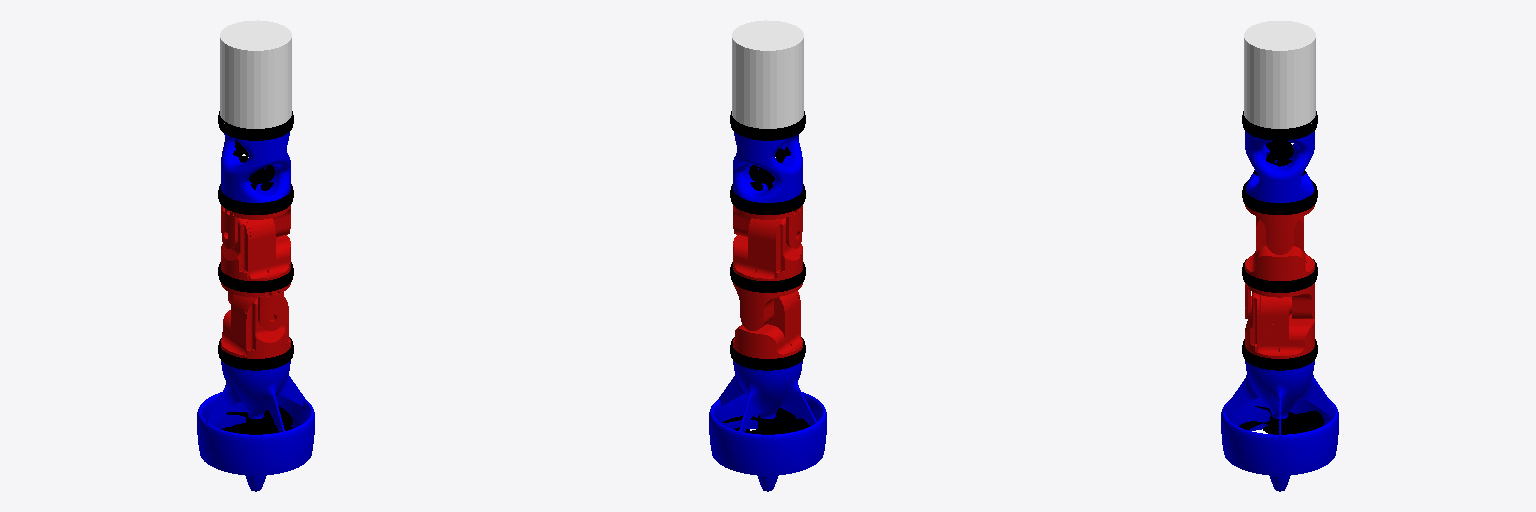
URDF robot description (snake):
<?xml version="1.0" encoding="utf-8"?>
<!-- =================================================================================== -->
<!-- |    This document was autogenerated by xacro from snake.xacro                    | -->
<!-- |    EDITING THIS FILE BY HAND IS NOT RECOMMENDED                                 | -->
<!-- =================================================================================== -->
<robot name="snake">
  <link name="head">
    <visual>
      <origin rpy="0 0 0" xyz="0 0 -0.033788"/>
      <geometry>
        <cylinder length="0.067576" radius="0.0263525"/>
      </geometry>
      <material name="white">
        <color rgba="1 1 1 1"/>
      </material>
    </visual>
    <collision>
      <origin rpy="0 0 0" xyz="0 0 -0.033788"/>
      <geometry>
        <cylinder length="0.067576" radius="0.0263525"/>
      </geometry>
    </collision>
    <inertial>
      <origin rpy="0 0 0" xyz="0 0 -0.033788"/>
      <mass value="0.67"/>
      <inertia ixx="0.000371284885415" ixy="0" ixz="0" iyy="0.000371284885415" iyz="0" izz="0.000232642175844"/>
    </inertial>
  </link>
  <joint name="head__OUTPUT_INTERFACE" type="fixed">
    <parent link="head"/>
    <child link="radial1__INPUT_INTERFACE"/>
    <origin rpy="0 0 1.57079632679" xyz="0 0 -0.067576"/>
  </joint>
  <link name="head__COLLAR">
    <visual>
      <geometry>
        <mesh filename="package://gripper/meshes/collar.stl"/>
      </geometry>
      <material name="black">
        <color rgba="0 0 0 1"/>
      </material>
    </visual>
  </link>
  <joint name="head__COLLAR_JOINT" type="fixed">
    <origin rpy="0 -1.57079632679 0" xyz="0 0 -0.067576"/>
    <parent link="head"/>
    <child link="head__COLLAR"/>
  </joint>
  <link name="radial1__INPUT_INTERFACE">
    <visual>
      <origin rpy="-1.57079632679 0 0" xyz="0 0 -0.03003515"/>
      <geometry>
        <mesh filename="package://gripper/meshes/radial_thruster_body.stl"/>
      </geometry>
      <material name="blue">
        <color rgba="0 0 1 1"/>
      </material>
    </visual>
    <collision>
      <origin rpy="0 0 0" xyz="0 0 -0.03003515"/>
      <geometry>
        <cylinder length="0.0600703" radius="0.0253925"/>
      </geometry>
    </collision>
    <inertial>
      <origin rpy="0 0 0" xyz="0 0 -0.03003515"/>
      <mass value="0.67"/>
      <inertia ixx="0.000309471777855" ixy="0" ixz="0" iyy="0.000309471777855" iyz="0" izz="0.000216000983844"/>
    </inertial>
  </link>
  <link name="radial1_propeller_h">
    <visual>
      <geometry>
        <mesh filename="package://gripper/meshes/radial_propeller_h.stl"/>
      </geometry>
      <material name="black">
        <color rgba="0 0 0 1"/>
      </material>
    </visual>
  </link>
  <joint name="radial1__PROPH_JOINT" type="continuous">
    <parent link="radial1__INPUT_INTERFACE"/>
    <child link="radial1_propeller_h"/>
    <origin rpy="0 1.57079632679 0" xyz="0 0 -0.0432259"/>
    <axis xyz="0 0 1"/>
    <dynamics damping=".1" friction="0.2"/>
    <limit effort="7.0" velocity="20"/>
  </joint>
  <transmission name="radial1__PROPH_JOINT_trans">
    <type>transmission_interface/SimpleTransmission</type>
    <joint name="radial1__PROPH_JOINT">
      <hardwareInterface>PositionJointInterface</hardwareInterface>
    </joint>
    <actuator name="radial1__PROPH_JOINT_motor">
      <hardwareInterface>PositionJointInterface</hardwareInterface>
      <mechanicalReduction>1</mechanicalReduction>
    </actuator>
  </transmission>
  <link name="radial1_propeller_v">
    <visual>
      <geometry>
        <mesh filename="package://gripper/meshes/radial_propeller_v.stl"/>
      </geometry>
      <material name="black">
        <color rgba="0 0 0 1"/>
      </material>
    </visual>
  </link>
  <joint name="radial1__PROPV_JOINT" type="continuous">
    <parent link="radial1__INPUT_INTERFACE"/>
    <child link="radial1_propeller_v"/>
    <origin rpy="1.57079632679 0 0" xyz="0 0 -0.022426"/>
    <axis xyz="0 0 1"/>
    <dynamics damping=".1" friction="0.2"/>
    <limit effort="7.0" velocity="20"/>
  </joint>
  <transmission name="radial1__PROPV_JOINT_trans">
    <type>transmission_interface/SimpleTransmission</type>
    <joint name="radial1__PROPV_JOINT">
      <hardwareInterface>PositionJointInterface</hardwareInterface>
    </joint>
    <actuator name="radial1__PROPV_JOINT_motor">
      <hardwareInterface>PositionJointInterface</hardwareInterface>
      <mechanicalReduction>1</mechanicalReduction>
    </actuator>
  </transmission>
  <link name="radial1__COLLAR">
    <visual>
      <geometry>
        <mesh filename="package://gripper/meshes/collar.stl"/>
      </geometry>
      <material name="black">
        <color rgba="0 0 0 1"/>
      </material>
    </visual>
  </link>
  <joint name="radial1__COLLAR_JOINT" type="fixed">
    <origin rpy="0 -1.57079632679 0" xyz="0 0 -0.0600703"/>
    <parent link="radial1__INPUT_INTERFACE"/>
    <child link="radial1__COLLAR"/>
  </joint>
  <joint name="radial1__OUTPUT_INTERFACE" type="fixed">
    <parent link="radial1__INPUT_INTERFACE"/>
    <child link="rotary1__INPUT_INTERFACE"/>
    <origin rpy="0 0 -1.57079632679" xyz="0 0 -0.0600703"/>
  </joint>
  <link name="rotary1__INPUT_INTERFACE">
    <visual>
      <origin rpy="0 -1.57079632679 0" xyz="0 0 -0.0187325"/>
      <geometry>
        <mesh filename="package://gripper/meshes/rotary_male.stl"/>
      </geometry>
      <material name="red">
        <color rgba=".82 0.06 0.06 1"/>
      </material>
    </visual>
    <collision>
      <origin rpy="0 0 0" xyz="0 0 -0.000379875"/>
      <geometry>
        <cylinder length="0.000379875" radius="0.0254"/>
      </geometry>
    </collision>
    <inertial>
      <origin rpy="0 0 0" xyz="0 0 -0.000379875"/>
      <mass value="0.335"/>
      <inertia ixx="5.40482640601e-05" ixy="0" ixz="0" iyy="5.40482640601e-05" iyz="0" izz="0.0001080643"/>
    </inertial>
  </link>
  <joint name="rotary1__JOINT" type="revolute">
    <parent link="rotary1__INPUT_INTERFACE"/>
    <child link="rotary1__OUTPUT_BODY"/>
    <origin rpy="0 0 0" xyz="0 0 -0.0273"/>
    <axis xyz="1 0 0"/>
    <dynamics damping=".1" friction="0.2"/>
    <limit effort="7.0" lower="-1.57" upper="1.57" velocity="2.208932"/>
  </joint>
  <transmission name="rotary1_trans">
    <type>transmission_interface/SimpleTransmission</type>
    <joint name="rotary1__JOINT">
      <hardwareInterface>PositionJointInterface</hardwareInterface>
    </joint>
    <actuator name="rotary1__JOINT_motor">
      <hardwareInterface>PositionJointInterface</hardwareInterface>
      <mechanicalReduction>300</mechanicalReduction>
    </actuator>
  </transmission>
  <link name="rotary1__OUTPUT_BODY">
    <visual>
      <origin rpy="0 0 0" xyz="0 0 -0.0087453"/>
      <geometry>
        <mesh filename="package://gripper/meshes/rotary_female.stl"/>
      </geometry>
      <material name="red">
        <color rgba=".82 0.06 0.06 1"/>
      </material>
    </visual>
    <collision>
      <origin rpy="0 0 0" xyz="0 0 -0.0087453"/>
      <geometry>
        <cylinder length="0.053107" radius="0.0257805"/>
      </geometry>
    </collision>
    <inertial>
      <origin rpy="0 0 0" xyz="0 0 -0.0087453"/>
      <mass value="0.335"/>
      <inertia ixx="0.000134397979714" ixy="0" ixz="0" iyy="0.000134397979714" iyz="0" izz="0.000111326225192"/>
    </inertial>
  </link>
  <joint name="rotary1__OUTPUT_INTERFACE" type="fixed">
    <parent link="rotary1__OUTPUT_BODY"/>
    <child link="rotary2__INPUT_INTERFACE"/>
    <origin rpy="0 0 1.57079632679" xyz="0 0 -0.0352988"/>
  </joint>
  <link name="rotary1__COLLAR">
    <visual>
      <origin rpy="0 1.57079632679 0" xyz="0 0 -0.0352988"/>
      <geometry>
        <mesh filename="package://gripper/meshes/collar.stl"/>
      </geometry>
      <material name="black">
        <color rgba="0 0 0 1"/>
      </material>
    </visual>
  </link>
  <joint name="rotary1__COLLAR_JOINT" type="fixed">
    <parent link="rotary1__OUTPUT_BODY"/>
    <child link="rotary1__COLLAR"/>
  </joint>
  <link name="rotary2__INPUT_INTERFACE">
    <visual>
      <origin rpy="0 -1.57079632679 0" xyz="0 0 -0.0187325"/>
      <geometry>
        <mesh filename="package://gripper/meshes/rotary_male.stl"/>
      </geometry>
      <material name="red">
        <color rgba=".82 0.06 0.06 1"/>
      </material>
    </visual>
    <collision>
      <origin rpy="0 0 0" xyz="0 0 -0.000379875"/>
      <geometry>
        <cylinder length="0.000379875" radius="0.0254"/>
      </geometry>
    </collision>
    <inertial>
      <origin rpy="0 0 0" xyz="0 0 -0.000379875"/>
      <mass value="0.335"/>
      <inertia ixx="5.40482640601e-05" ixy="0" ixz="0" iyy="5.40482640601e-05" iyz="0" izz="0.0001080643"/>
    </inertial>
  </link>
  <joint name="rotary2__JOINT" type="revolute">
    <parent link="rotary2__INPUT_INTERFACE"/>
    <child link="rotary2__OUTPUT_BODY"/>
    <origin rpy="0 0 0" xyz="0 0 -0.0273"/>
    <axis xyz="1 0 0"/>
    <dynamics damping=".1" friction="0.2"/>
    <limit effort="7.0" lower="-1.57" upper="1.57" velocity="2.208932"/>
  </joint>
  <transmission name="rotary2_trans">
    <type>transmission_interface/SimpleTransmission</type>
    <joint name="rotary2__JOINT">
      <hardwareInterface>PositionJointInterface</hardwareInterface>
    </joint>
    <actuator name="rotary2__JOINT_motor">
      <hardwareInterface>PositionJointInterface</hardwareInterface>
      <mechanicalReduction>300</mechanicalReduction>
    </actuator>
  </transmission>
  <link name="rotary2__OUTPUT_BODY">
    <visual>
      <origin rpy="0 0 0" xyz="0 0 -0.0087453"/>
      <geometry>
        <mesh filename="package://gripper/meshes/rotary_female.stl"/>
      </geometry>
      <material name="red">
        <color rgba=".82 0.06 0.06 1"/>
      </material>
    </visual>
    <collision>
      <origin rpy="0 0 0" xyz="0 0 -0.0087453"/>
      <geometry>
        <cylinder length="0.053107" radius="0.0257805"/>
      </geometry>
    </collision>
    <inertial>
      <origin rpy="0 0 0" xyz="0 0 -0.0087453"/>
      <mass value="0.335"/>
      <inertia ixx="0.000134397979714" ixy="0" ixz="0" iyy="0.000134397979714" iyz="0" izz="0.000111326225192"/>
    </inertial>
  </link>
  <joint name="rotary2__OUTPUT_INTERFACE" type="fixed">
    <parent link="rotary2__OUTPUT_BODY"/>
    <child link="axial__INPUT_INTERFACE"/>
    <origin rpy="0 0 0" xyz="0 0 -0.0352988"/>
  </joint>
  <link name="rotary2__COLLAR">
    <visual>
      <origin rpy="0 1.57079632679 0" xyz="0 0 -0.0352988"/>
      <geometry>
        <mesh filename="package://gripper/meshes/collar.stl"/>
      </geometry>
      <material name="black">
        <color rgba="0 0 0 1"/>
      </material>
    </visual>
  </link>
  <joint name="rotary2__COLLAR_JOINT" type="fixed">
    <parent link="rotary2__OUTPUT_BODY"/>
    <child link="rotary2__COLLAR"/>
  </joint>
  <link name="axial__INPUT_INTERFACE">
    <visual>
      <origin rpy="-1.57079632679 0 0" xyz="0 0 -0.05775515"/>
      <geometry>
        <mesh filename="package://gripper/meshes/axial_thruster_body.stl"/>
      </geometry>
      <material name="blue">
        <color rgba="0 0 1 1"/>
      </material>
    </visual>
    <collision>
      <origin rpy="0 0 0" xyz="0 0 -0.05775515"/>
      <geometry>
        <cylinder length="0.1155103" radius="0.0432145"/>
      </geometry>
    </collision>
    <inertial>
      <origin rpy="0 0 0" xyz="0 0 -0.05775515"/>
      <mass value="0.67"/>
      <inertia ixx="0.00105776855439" ixy="0" ixz="0" iyy="0.00105776855439" iyz="0" izz="0.000625610158434"/>
    </inertial>
  </link>
  <link name="axial_propeller">
    <visual>
      <origin rpy="0 1.57079632679 0" xyz="0 0 0"/>
      <geometry>
        <mesh filename="package://gripper/meshes/axial_propeller.stl"/>
      </geometry>
      <material name="black">
        <color rgba="0 0 0 1"/>
      </material>
    </visual>
  </link>
  <joint name="axial__PROP_JOINT" type="continuous">
    <parent link="axial__INPUT_INTERFACE"/>
    <child link="axial_propeller"/>
    <origin rpy="0 0 0" xyz="0 0 -0.068235"/>
    <axis xyz="0 0 1"/>
    <dynamics damping=".1" friction="0.2"/>
    <limit effort="7.0" velocity="20"/>
  </joint>
  <transmission name="axial__PROP_JOINT_trans">
    <type>transmission_interface/SimpleTransmission</type>
    <joint name="axial__PROP_JOINT">
      <hardwareInterface>PositionJointInterface</hardwareInterface>
    </joint>
    <actuator name="axial__PROP_JOINT_motor">
      <hardwareInterface>PositionJointInterface</hardwareInterface>
      <mechanicalReduction>1</mechanicalReduction>
    </actuator>
  </transmission>
</robot>

--- Render facts (derived) ---
3 views of the same robot in one strip: view 1: azimuth 30°, elevation 25°; view 2: azimuth 150°, elevation 25°; view 3: azimuth 270°, elevation 25° (orthographic).
Model snake with 14 links and 13 joints (2 revolute, 3 continuous, 8 fixed), rooted at head, posed all joints at 0.
Links seen in each view (by area): view 1: axial__INPUT_INTERFACE, head, radial1__INPUT_INTERFACE, rotary1__OUTPUT_BODY, rotary2__OUTPUT_BODY, rotary1__INPUT_INTERFACE, rotary2__INPUT_INTERFACE, radial1__COLLAR, axial_propeller, head__COLLAR, rotary1__COLLAR, rotary2__COLLAR; view 2: axial__INPUT_INTERFACE, head, radial1__INPUT_INTERFACE, rotary1__OUTPUT_BODY, rotary2__OUTPUT_BODY, rotary2__INPUT_INTERFACE, rotary1__INPUT_INTERFACE, axial_propeller, radial1__COLLAR, head__COLLAR, rotary1__COLLAR, rotary2__COLLAR; view 3: axial__INPUT_INTERFACE, head, rotary2__OUTPUT_BODY, radial1__INPUT_INTERFACE, rotary1__OUTPUT_BODY, rotary1__INPUT_INTERFACE, axial_propeller, rotary2__INPUT_INTERFACE, radial1__COLLAR, rotary1__COLLAR, head__COLLAR, rotary2__COLLAR (+1 smaller).
Link boxes in pixels (left/top/right/bottom): axial__INPUT_INTERFACE: left=197, top=361, right=314, bottom=491; head: left=220, top=20, right=291, bottom=128; radial1__INPUT_INTERFACE: left=221, top=132, right=290, bottom=202; rotary1__OUTPUT_BODY: left=221, top=218, right=290, bottom=280; rotary2__OUTPUT_BODY: left=221, top=294, right=290, bottom=358; rotary1__INPUT_INTERFACE: left=221, top=205, right=290, bottom=248; rotary2__INPUT_INTERFACE: left=221, top=283, right=290, bottom=330; radial1__COLLAR: left=218, top=184, right=293, bottom=214; axial_propeller: left=221, top=406, right=292, bottom=434; head__COLLAR: left=218, top=111, right=293, bottom=140; rotary1__COLLAR: left=218, top=262, right=293, bottom=292; rotary2__COLLAR: left=218, top=337, right=293, bottom=370; axial__INPUT_INTERFACE: left=709, top=361, right=826, bottom=491; head: left=732, top=20, right=803, bottom=128; radial1__INPUT_INTERFACE: left=733, top=132, right=802, bottom=202; rotary1__OUTPUT_BODY: left=733, top=218, right=802, bottom=280; rotary2__OUTPUT_BODY: left=733, top=291, right=802, bottom=358; rotary2__INPUT_INTERFACE: left=733, top=283, right=802, bottom=330; rotary1__INPUT_INTERFACE: left=733, top=205, right=802, bottom=248; axial_propeller: left=722, top=408, right=809, bottom=434; radial1__COLLAR: left=730, top=184, right=805, bottom=214; head__COLLAR: left=730, top=111, right=805, bottom=140; rotary1__COLLAR: left=730, top=262, right=805, bottom=292; rotary2__COLLAR: left=730, top=337, right=805, bottom=370; axial__INPUT_INTERFACE: left=1221, top=361, right=1338, bottom=491; head: left=1244, top=21, right=1315, bottom=128; rotary2__OUTPUT_BODY: left=1245, top=292, right=1314, bottom=358; radial1__INPUT_INTERFACE: left=1245, top=131, right=1314, bottom=202; rotary1__OUTPUT_BODY: left=1245, top=217, right=1314, bottom=280; rotary1__INPUT_INTERFACE: left=1245, top=205, right=1314, bottom=254; axial_propeller: left=1239, top=406, right=1323, bottom=434; rotary2__INPUT_INTERFACE: left=1245, top=283, right=1314, bottom=318; radial1__COLLAR: left=1242, top=180, right=1317, bottom=214; rotary1__COLLAR: left=1242, top=259, right=1317, bottom=292; head__COLLAR: left=1242, top=111, right=1317, bottom=140; rotary2__COLLAR: left=1242, top=339, right=1317, bottom=370.
Bounding box of the posed robot: 0.0864 × 0.0864 × 0.3656 m (x, y, z).
Meshes: 8 distinct files referenced, 13 mesh visuals loaded (8 binary STL).